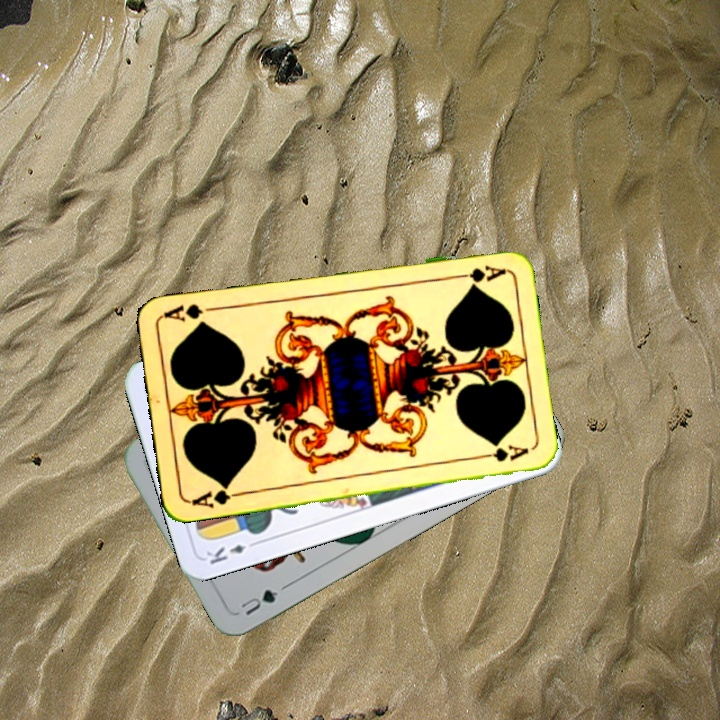EK: (202, 537, 261, 568)
GA: (187, 480, 245, 510), (448, 261, 508, 286)
GU: (235, 585, 281, 618)
